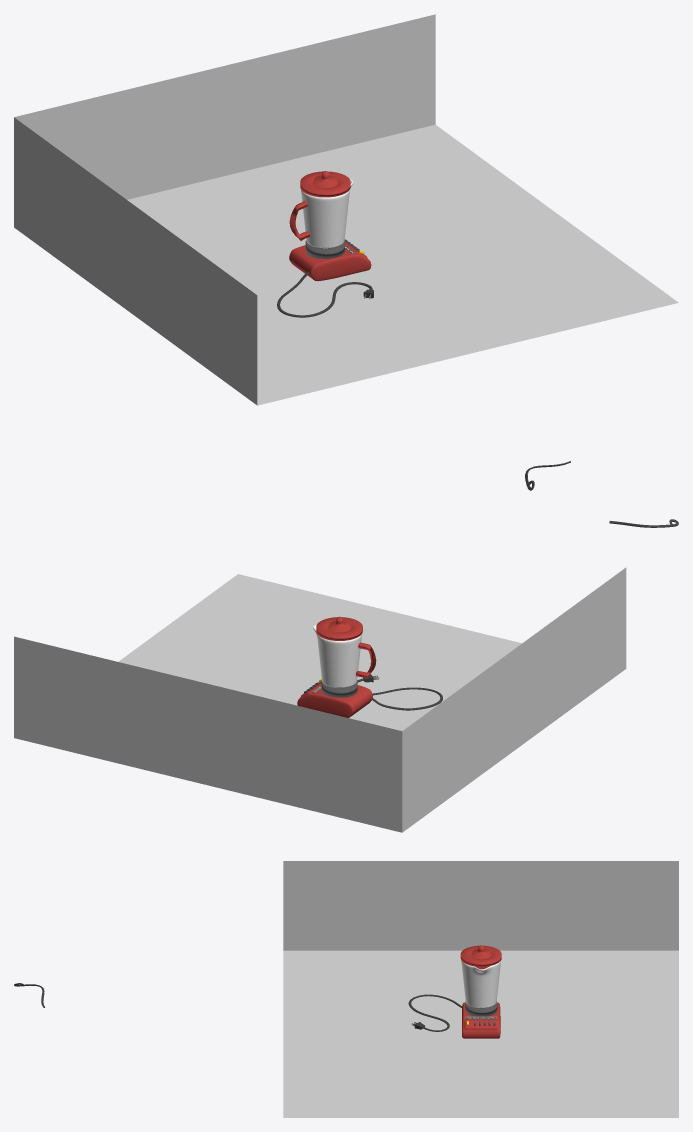
The model's file is Blender_Data.fbx.
The picture shows the model from 3 angles, top to bottom: view 1: azimuth 30°, elevation 25°; view 2: azimuth 150°, elevation 25°; view 3: azimuth 270°, elevation 25°; orthographic projection. The views are drawn at different scales.
Parts seen in each view (by area): view 1: Plane, Cylinder.001, Cube.001, Cylinder.003, BezierCurve; view 2: Plane, Cylinder.001, Cube.001, Cylinder.003, BezierCurve; view 3: Plane, Cylinder.001, Cube.001, Cylinder.003, BezierCurve.
Boxes of the visible parts, x1=… form: Plane: x1=14, y1=14, x2=678, y2=405; Cylinder.001: x1=301, y1=179, x2=353, y2=248; Cube.001: x1=289, y1=241, x2=371, y2=281; Cylinder.003: x1=300, y1=171, x2=350, y2=197; BezierCurve: x1=277, y1=271, x2=570, y2=490; Plane: x1=14, y1=567, x2=626, y2=832; Cylinder.001: x1=313, y1=625, x2=361, y2=687; Cube.001: x1=297, y1=681, x2=372, y2=717; Cylinder.003: x1=316, y1=616, x2=362, y2=640; BezierCurve: x1=357, y1=519, x2=678, y2=710; Plane: x1=283, y1=861, x2=678, y2=1117; Cylinder.001: x1=461, y1=961, x2=500, y2=1007; Cube.001: x1=462, y1=1002, x2=500, y2=1038; Cylinder.003: x1=460, y1=945, x2=501, y2=969; BezierCurve: x1=14, y1=983, x2=462, y2=1031.
Size of the model in its own units: 1600 by 401 by 2690.
